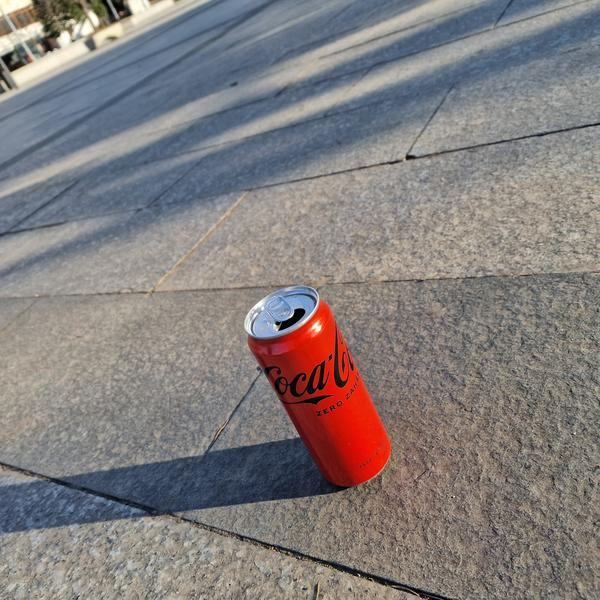can: (231, 270, 410, 500)
